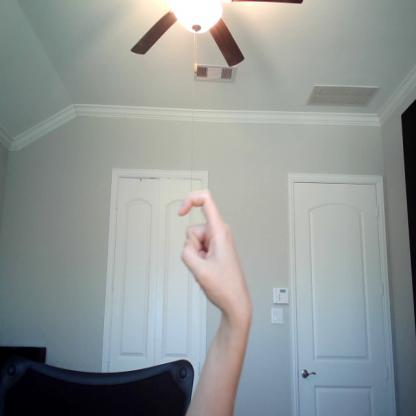X: (177, 190, 242, 318)
